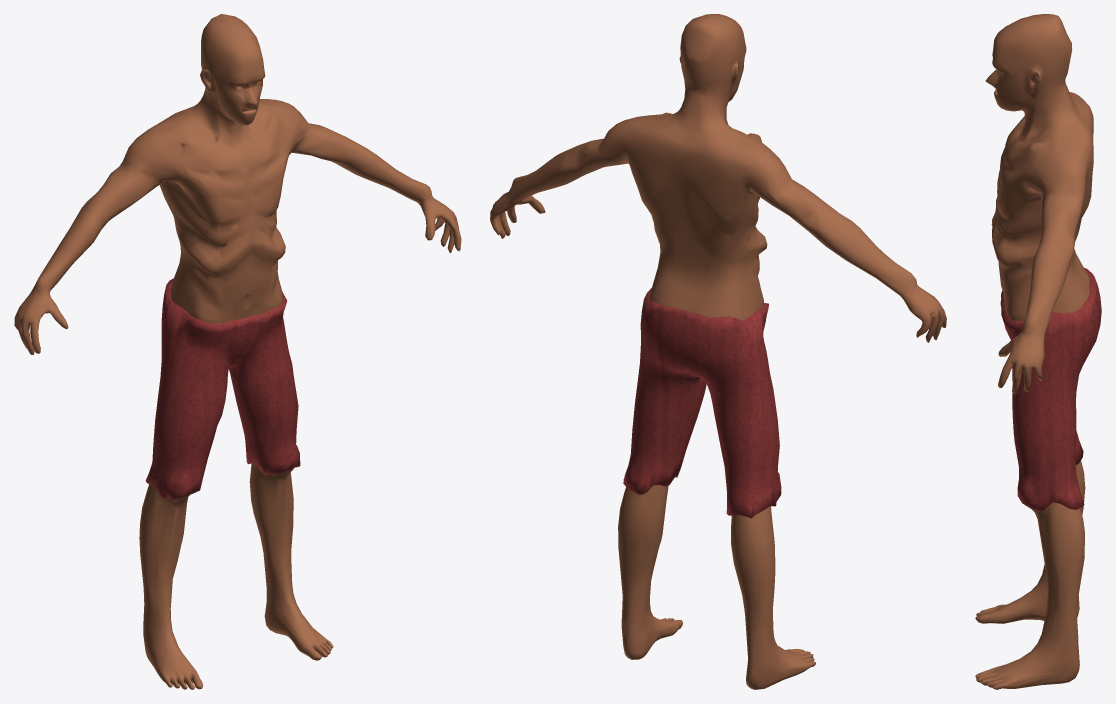
Rendered from corpo3.fbx.
3 views of the same model, side by side, from view 1: azimuth 30°, elevation 25°; view 2: azimuth 150°, elevation 25°; view 3: azimuth 270°, elevation 25° (orthographic). The views are drawn at different scales.
Parts seen in each view (by area): view 1: male_genericMesh.002; view 2: male_genericMesh.002; view 3: male_genericMesh.002.
Boxes of the visible parts, x1,y1,x2,y2 form: male_genericMesh.002: (14,14,461,689); male_genericMesh.002: (490,14,946,689); male_genericMesh.002: (975,14,1101,689).
Size of the model in its own units: 1362 by 1892 by 341.
2 materials, 2 textured.
